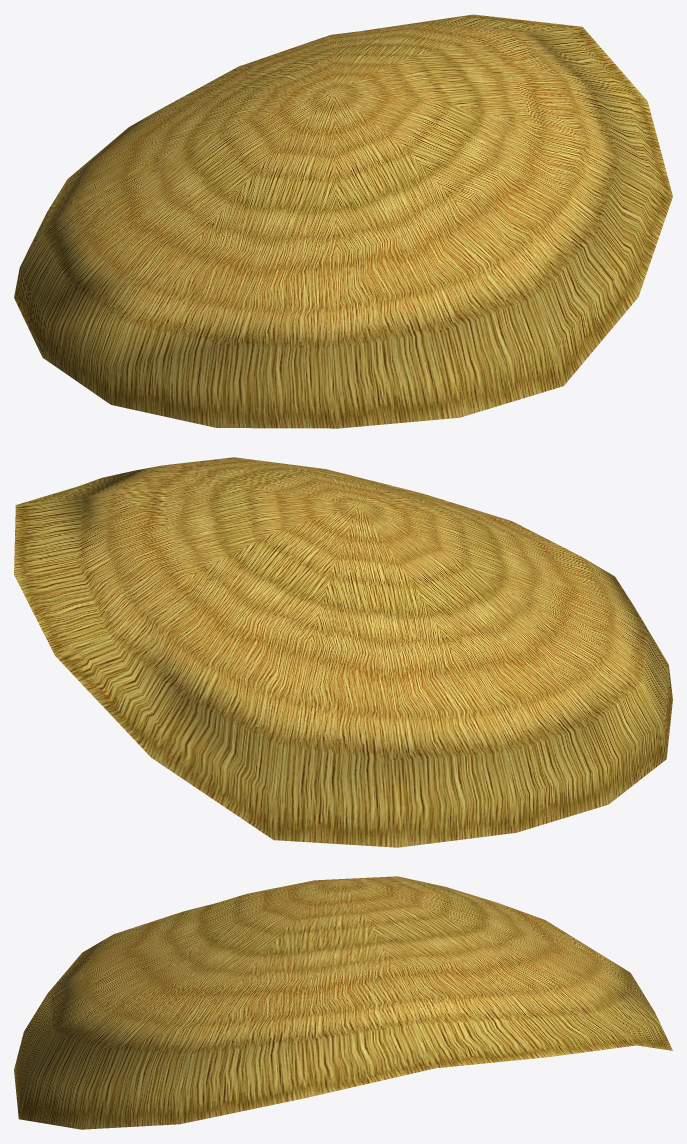
Rendered from HTOWN01_HANNA-ROOF.fbx.
3 views of the same model, one above another, from view 1: azimuth 30°, elevation 25°; view 2: azimuth 150°, elevation 25°; view 3: azimuth 270°, elevation 25° (orthographic). The views are drawn at different scales.
Parts seen in each view (by area): view 1: HTOWN01_HANNA-ROOF; view 2: HTOWN01_HANNA-ROOF; view 3: HTOWN01_HANNA-ROOF.
Part boxes in pixels (left/top/right/bottom): HTOWN01_HANNA-ROOF: left=14, top=14, right=672, bottom=428; HTOWN01_HANNA-ROOF: left=14, top=457, right=672, bottom=847; HTOWN01_HANNA-ROOF: left=14, top=876, right=672, bottom=1129.
Size of the model in its own units: 76878 by 28820 by 75422.
Materials: 2 (2 with a texture image).
